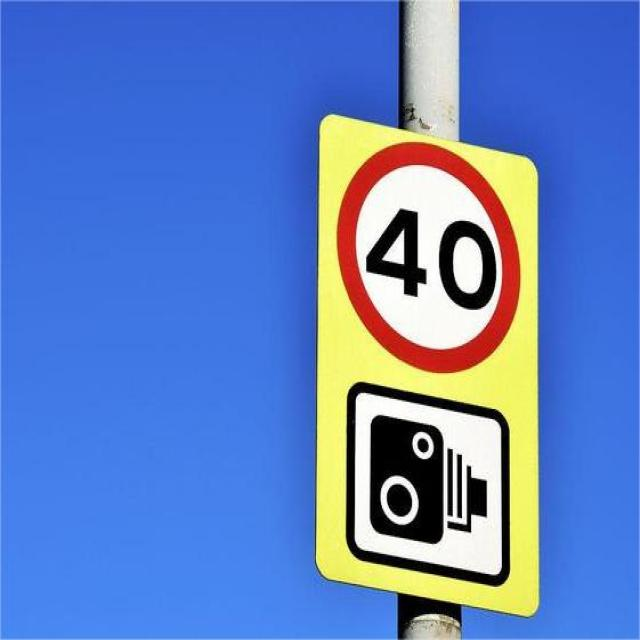speed limit 40: (338, 142, 523, 372)
